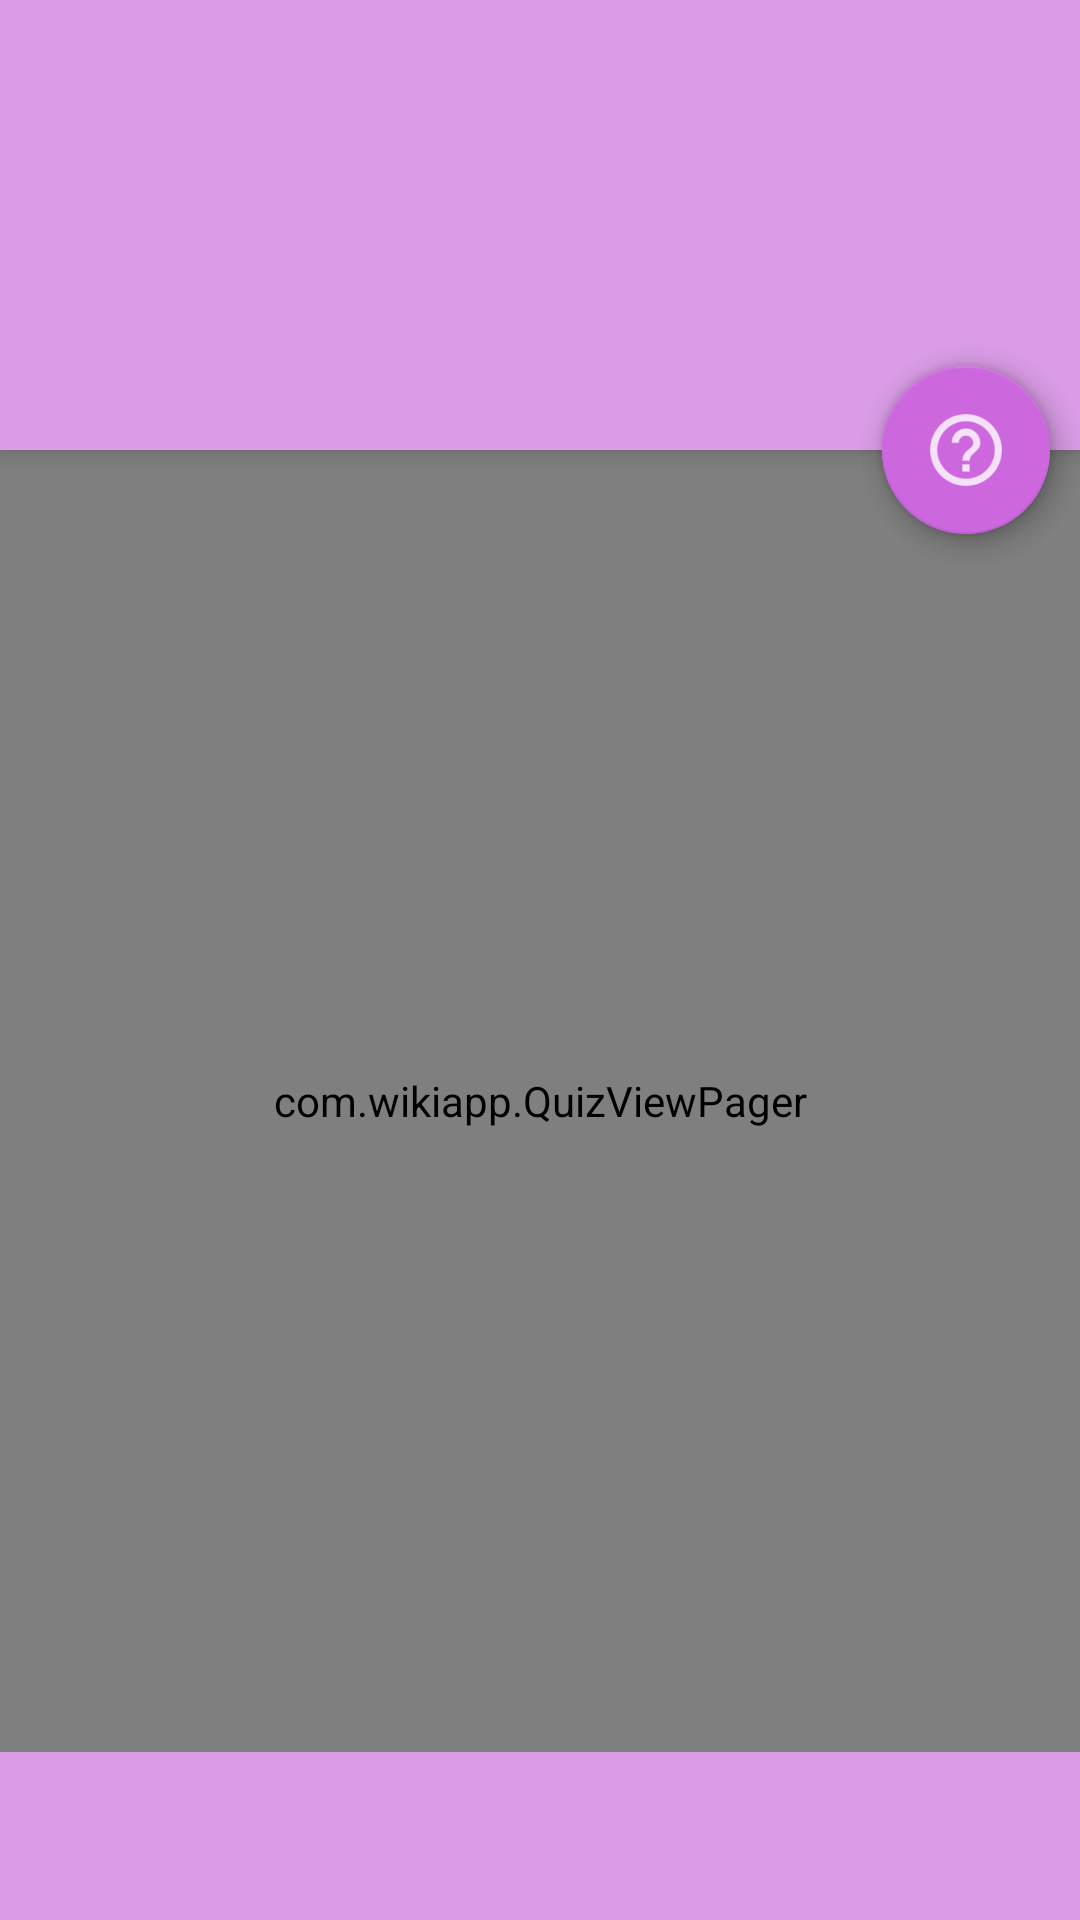

Screen size 1080px×1920px. Icon name, then its center in pixels as (x,y):
about: (966,450)
